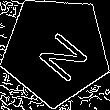N_NW: (25, 19, 87, 82)
